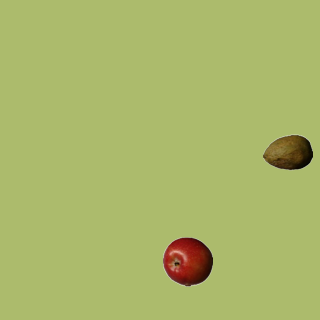Apple Braeburn: (162, 236, 212, 286)
Papaya: (262, 127, 312, 177)
